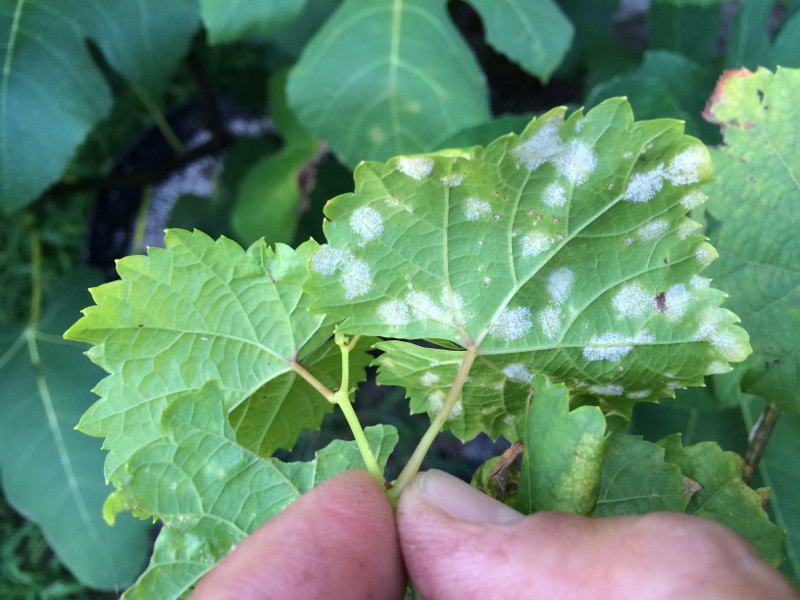downy: (513, 120, 611, 218), (621, 135, 708, 222), (548, 432, 630, 514), (384, 277, 457, 350), (665, 278, 738, 351), (312, 239, 374, 301), (582, 331, 644, 393), (483, 298, 535, 350), (606, 276, 654, 324), (543, 266, 582, 305), (346, 204, 383, 241), (517, 227, 554, 264), (458, 191, 494, 227), (535, 310, 569, 344), (414, 367, 446, 399), (404, 154, 433, 183)
